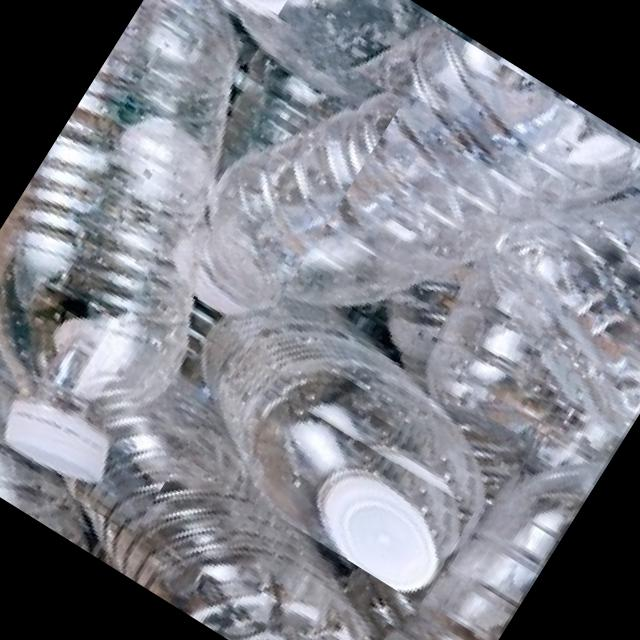plastic bottle: (153, 13, 640, 359), (137, 256, 528, 604), (0, 0, 247, 482)
